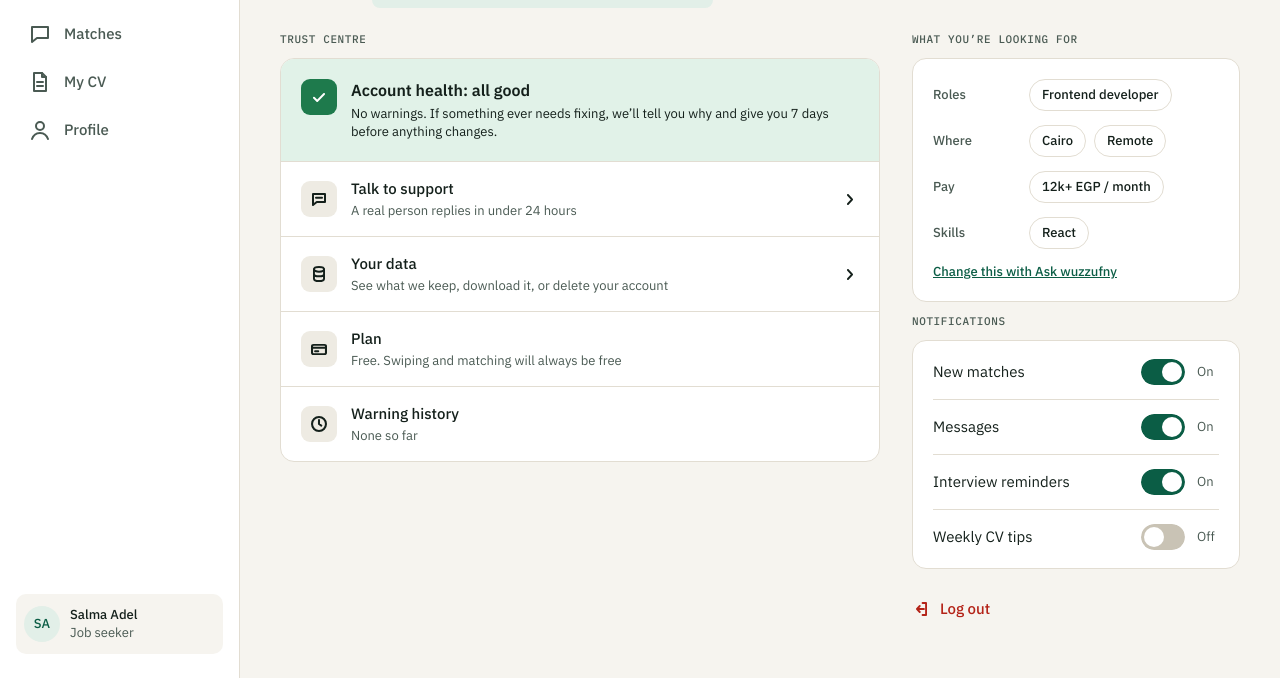
Test case: H8 Profile + Trust centre › sends a support ticket and lists it with the reply promise (FR-06)
Click the button "Talk to support A real person replies in under 24 hours" at (319,199), box [281, 161, 879, 236]
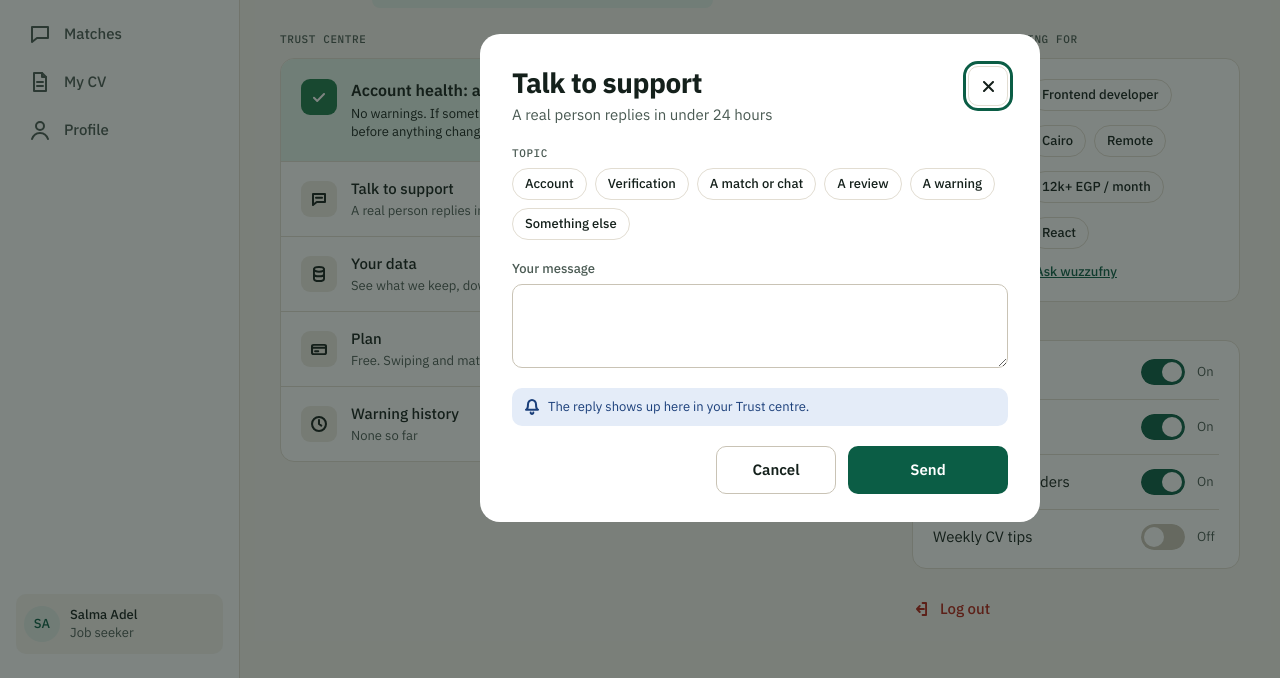
Click the button "Send" at (928,470), box [848, 446, 1008, 494]
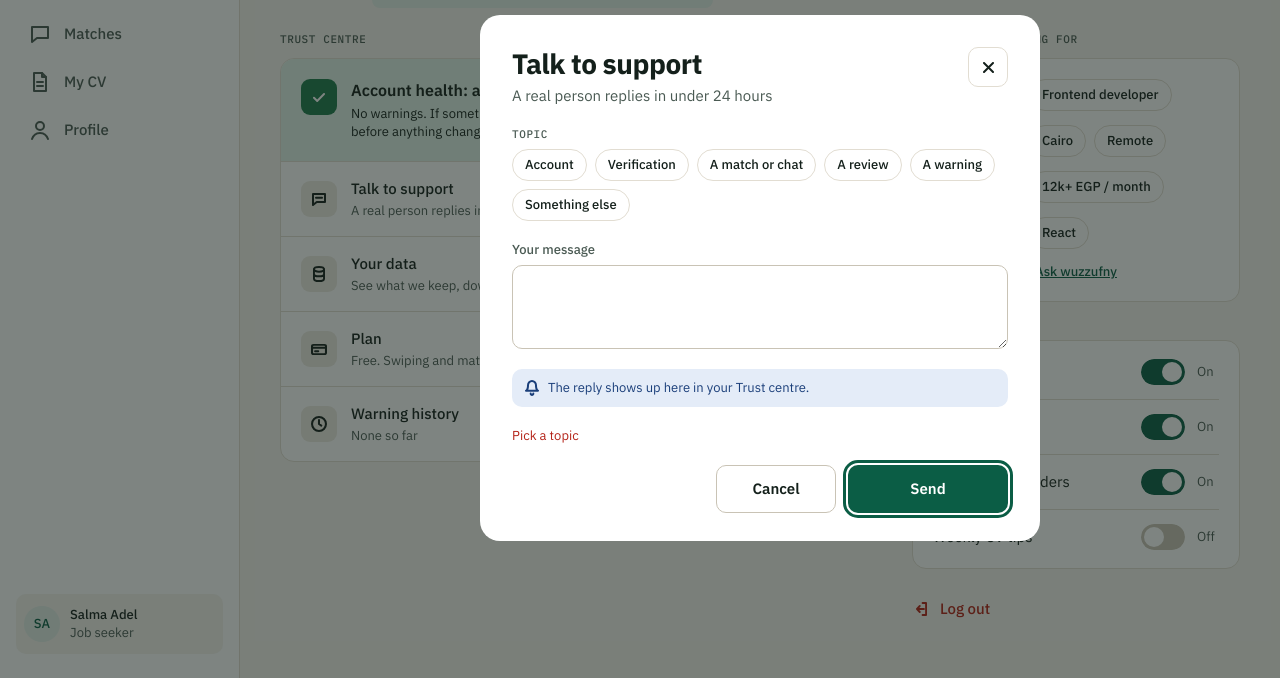
Expected: the message reads "Pick a topic", [512, 427, 579, 444]
Click the radio button labelled "Account" at (549,165), box [512, 149, 587, 181]
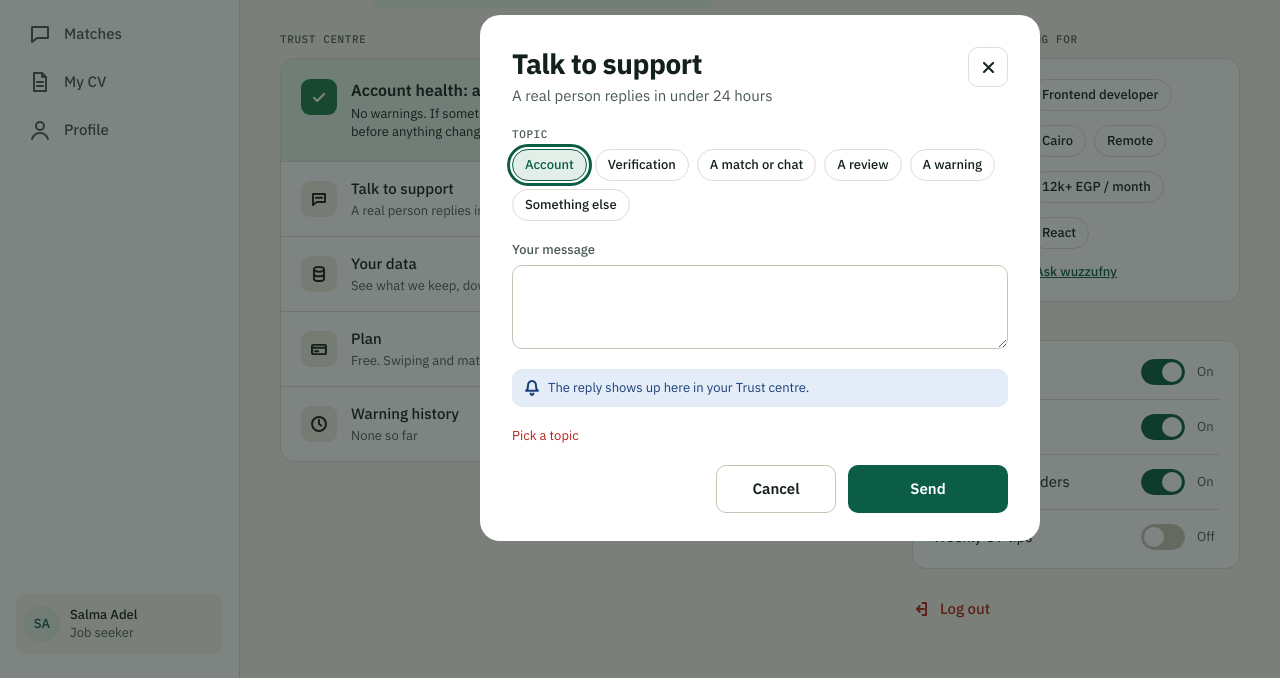
Type "Help me" into the text box labelled "Your message" at (760,307), box [512, 265, 1008, 349]
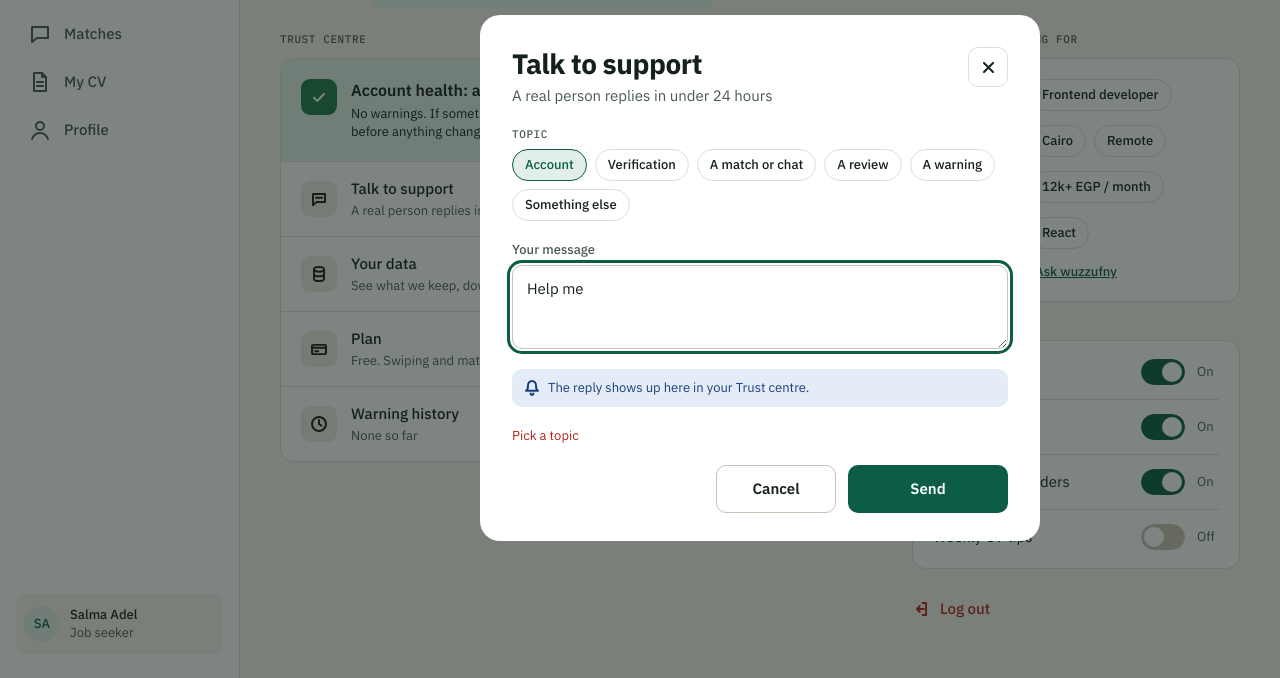
Click the button "Send" at (928,489), box [848, 465, 1008, 513]
(page scrolled)
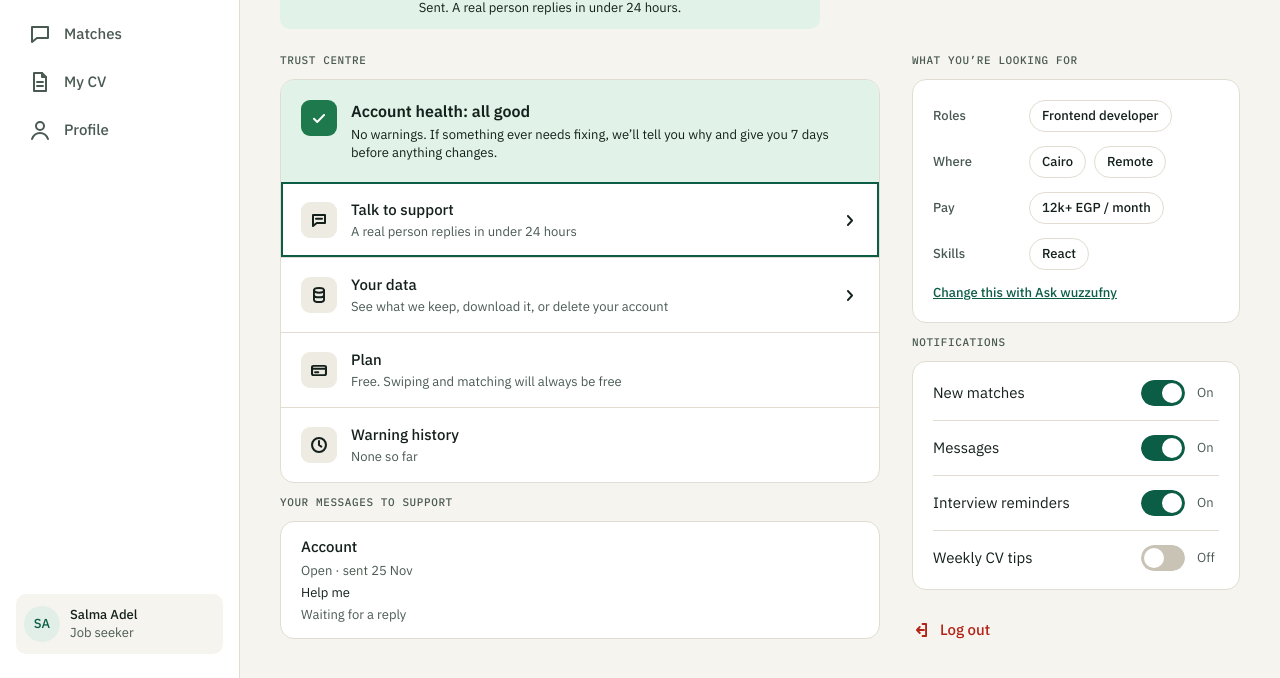
Expected: the list named "Your messages to support" shows "Waiting for a reply", [301, 606, 406, 623]
